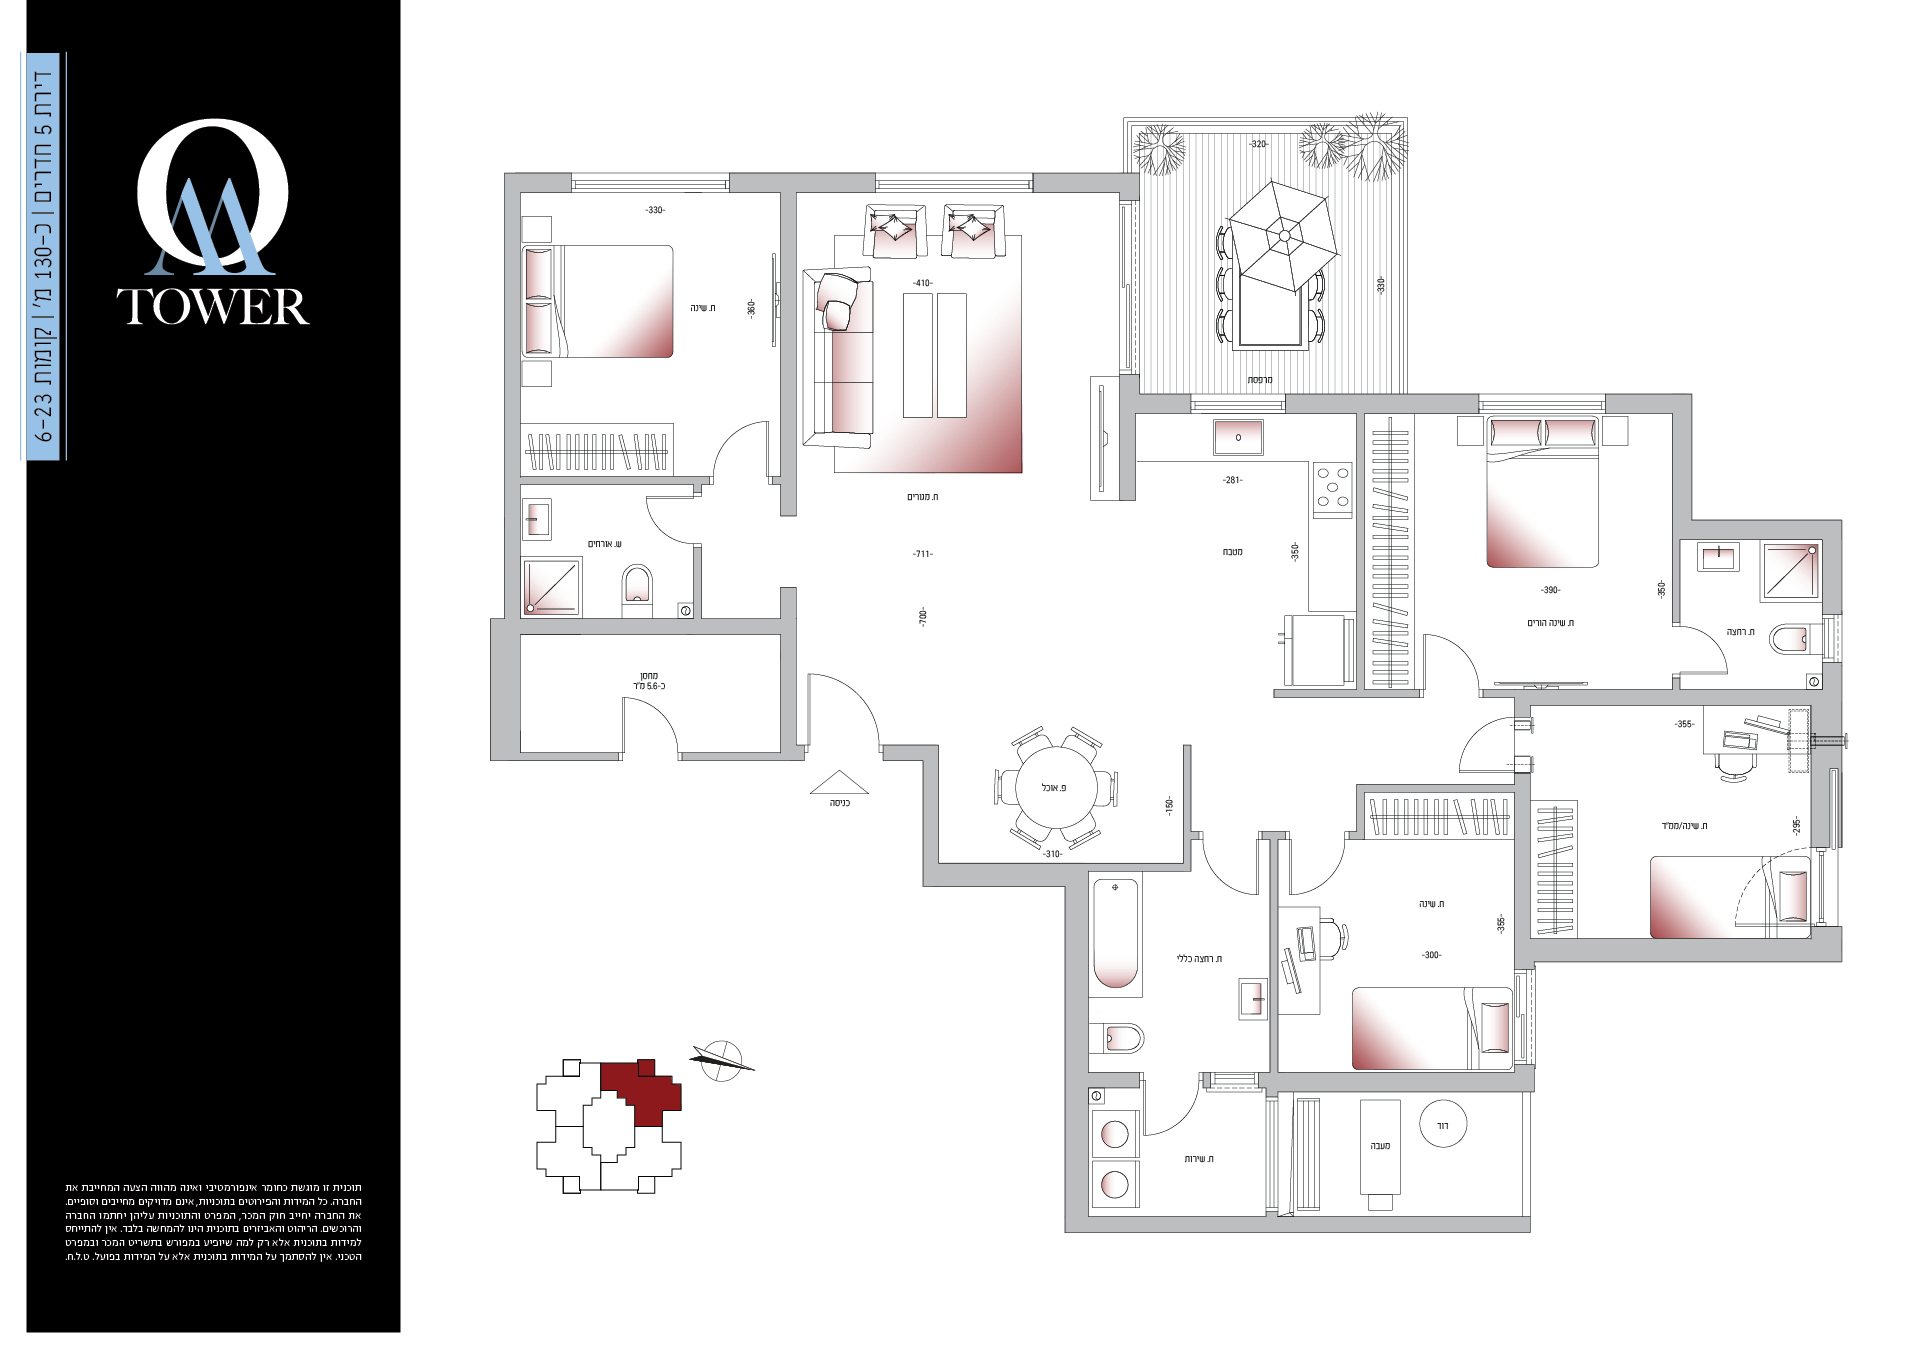door: (1063, 863, 1088, 1231), (800, 667, 890, 742), (781, 177, 797, 516), (1284, 840, 1351, 903), (1448, 714, 1513, 778), (1203, 866, 1268, 929), (1137, 1078, 1202, 1142), (614, 688, 682, 747), (629, 492, 697, 551), (706, 415, 773, 474), (1283, 392, 1476, 412), (923, 863, 1088, 887), (1418, 629, 1488, 685), (1672, 620, 1741, 676), (1673, 395, 1692, 538), (728, 174, 876, 191)
wall: (571, 174, 733, 194), (873, 172, 1035, 193), (1479, 390, 1607, 415), (1189, 390, 1284, 415)
